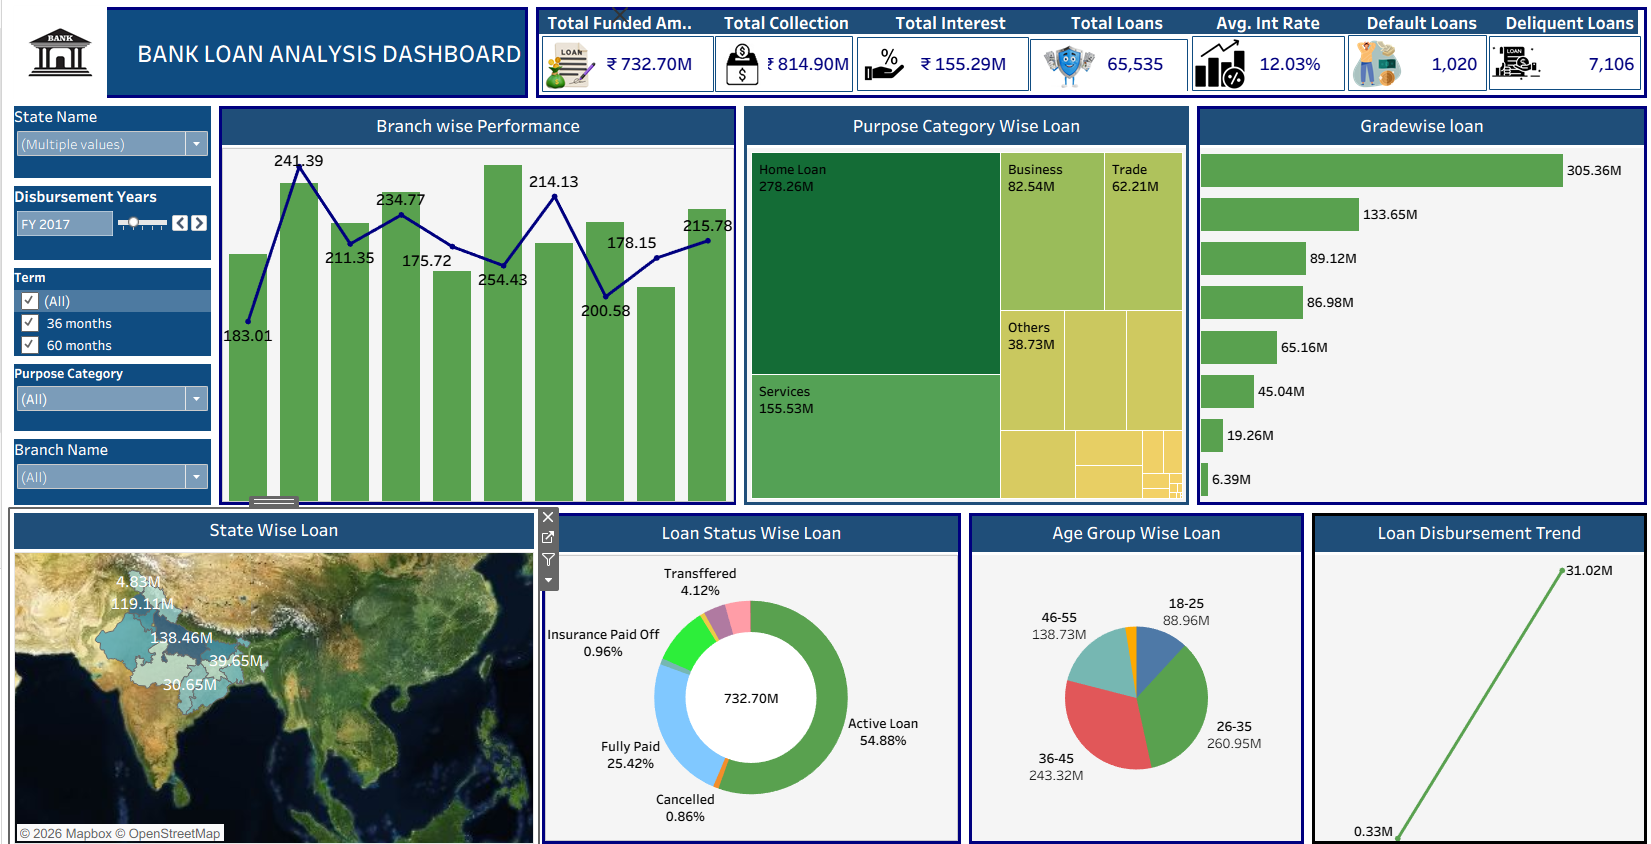

This screenshot's page, from the dashboard's own definition file:
{"tool":"tableau","page":{"name":"Dashboard 1","canvas":[1000,1000],"units":"permille","ordinal":0},"visuals":[{"type":"text","box":[4.8,9.4,315,115.1]},{"type":"worksheet","title":"KPI's","mark":"Automatic","box":[319.9,9.4,675.3,115.1]},{"type":"dashboard-object","box":[365.7,9.4,14.5,28.2]},{"type":"image","param":"Image/bank llohgo1.png","box":[6.5,11.8,83.9,109.3]},{"type":"image","param":"Image/defaultimage.png","box":[812.3,47,83.9,64.6]},{"type":"image","param":"Image/deliqimages.jpg","box":[325.9,48.2,103.8,64.6]},{"type":"image","param":"Image/Picture1.jpg","box":[430.3,48.2,83.3,64.6]},{"type":"image","param":"Image/images% int.jpg","box":[718.2,48.2,92.3,63.5]},{"type":"image","param":"Image/deliqimages2.png","box":[897.4,48.2,91.7,62.3]},{"type":"image","param":"Image/%bank.jpg","box":[516,49.4,103.8,62.3]},{"type":"image","param":"Image/images2.jpg","box":[620.4,50.5,95.4,61.1]},{"type":"filter","title":"State wise Loan","param":"[federated.09ncz721xuv75j17ba6510lsigww].[none:State Name:nk]","box":[4.8,124.5,123.7,94]},{"type":"worksheet","title":"Branch wise Performance","mark":"Automatic","rows":["Loan Amount","Total Fees"],"cols":["Branch Name"],"box":[128.5,124.5,317.2,472.1]},{"type":"worksheet","title":"Purpose Category wise loan","mark":"Automatic","box":[445.8,124.5,273.2,472.1]},{"type":"worksheet","title":"Gradewise loan","mark":"Automatic","rows":["grade"],"cols":["Loan Amount"],"box":[719,124.5,276.2,472.1]},{"type":"filter","title":"Loan Disbursement Trend","param":"[federated.09ncz721xuv75j17ba6510lsigww].[none:Disbursement Date (Years):nk]","box":[4.8,218.6,123.7,96.4]},{"type":"filter","title":"Gradewise loan","param":"[federated.09ncz721xuv75j17ba6510lsigww].[none:Term:nk]","box":[4.8,314.9,123.7,112.8]},{"type":"filter","title":"Gradewise loan","param":"[federated.09ncz721xuv75j17ba6510lsigww].[none:Purpose Category:nk]","box":[4.8,427.7,123.7,88.1]},{"type":"filter","title":"Branch wise Performance","param":"[federated.09ncz721xuv75j17ba6510lsigww].[none:Branch Name:nk]","box":[4.8,515.9,123.7,80.7]},{"type":"worksheet","title":"State wise Loan","mark":"Automatic","box":[4.8,596.6,318.5,394]},{"type":"worksheet","title":"Loan Status wise loan","mark":"Pie","rows":["Calculation_0745488092364800","Calculation_0745488092364800"],"box":[323.3,596.6,257.6,394]},{"type":"worksheet","title":"Age Group wise Loan","mark":"Pie","box":[581,596.6,207.1,394]},{"type":"worksheet","title":"Loan Disbursement Trend","mark":"Line","rows":["Loan Amount"],"cols":["Disbursement Date"],"box":[788,596.6,207.1,394]}]}

Visuals, with their boxes on the dashboard's canvas, which has no fixed pixel size, in thousandths of its width and height (x1, y1, x2, y2). These are canvas units, not pixel positions in the 1651x844 screenshot, which may show the page scaled, cropped or inside an application window:
text: [5, 9, 320, 124]
"KPI's" worksheet: [320, 9, 995, 124]
dashboard-object: [366, 9, 380, 38]
image: [6, 12, 90, 121]
image: [812, 47, 896, 112]
image: [326, 48, 430, 113]
image: [430, 48, 514, 113]
image: [718, 48, 810, 112]
image: [897, 48, 989, 110]
image: [516, 49, 620, 112]
image: [620, 50, 716, 112]
"State wise Loan" filter: [5, 124, 128, 218]
"Branch wise Performance" worksheet: [128, 124, 446, 597]
"Purpose Category wise loan" worksheet: [446, 124, 719, 597]
"Gradewise loan" worksheet: [719, 124, 995, 597]
"Loan Disbursement Trend" filter: [5, 219, 128, 315]
"Gradewise loan" filter: [5, 315, 128, 428]
"Gradewise loan" filter: [5, 428, 128, 516]
"Branch wise Performance" filter: [5, 516, 128, 597]
"State wise Loan" worksheet: [5, 597, 323, 991]
"Loan Status wise loan" worksheet (Pie marks): [323, 597, 581, 991]
"Age Group wise Loan" worksheet (Pie marks): [581, 597, 788, 991]
"Loan Disbursement Trend" worksheet (Line marks): [788, 597, 995, 991]
